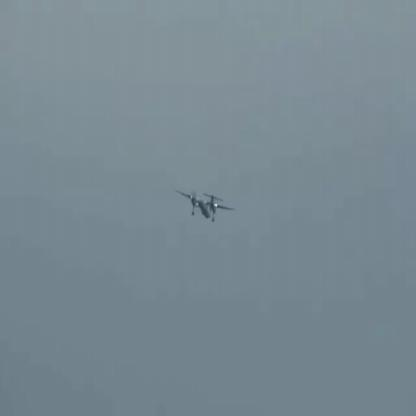CIV_Plane: (174, 189, 236, 223)
